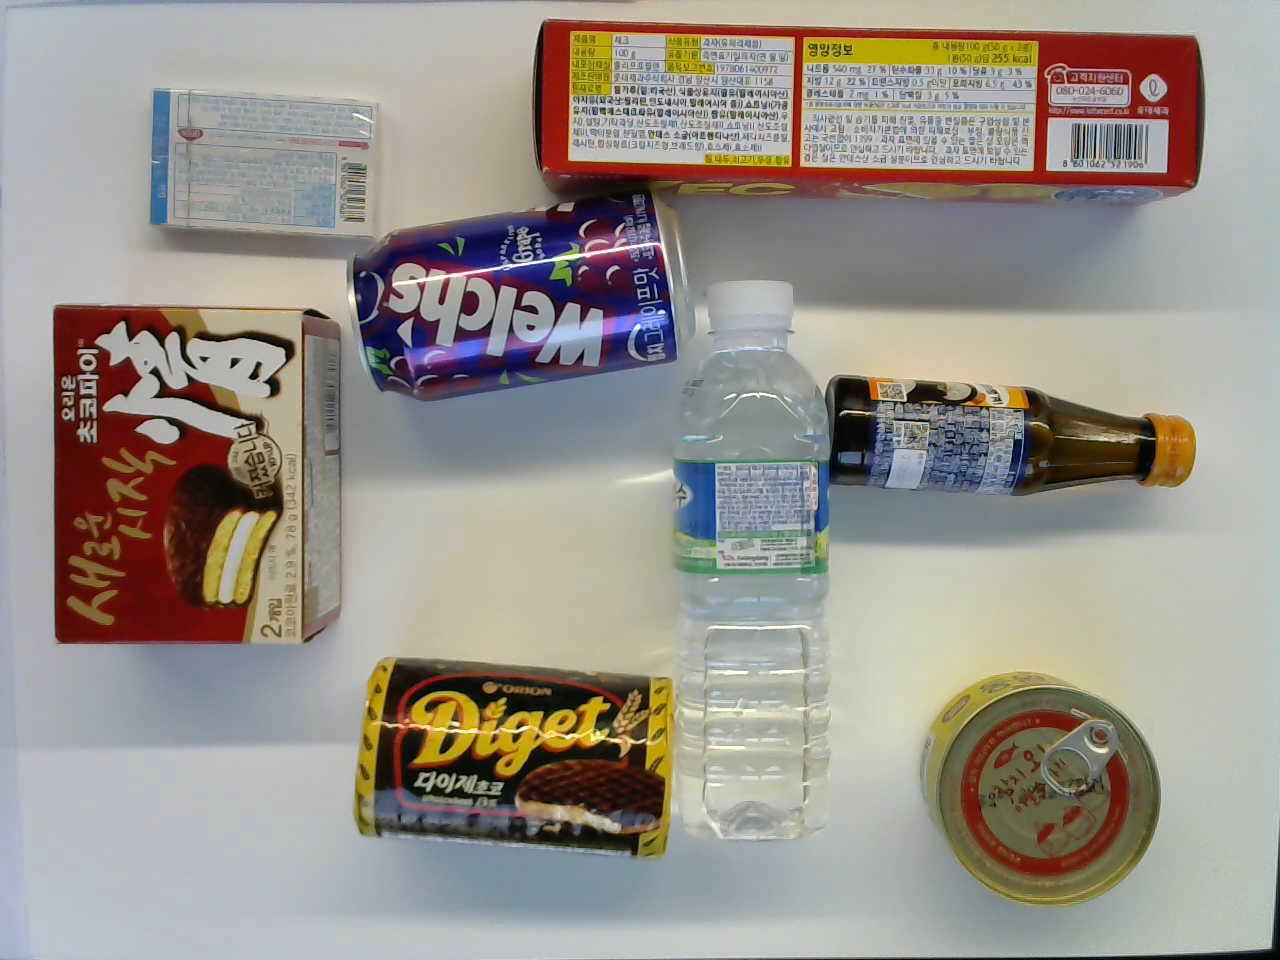ID_gum: (144, 82, 385, 247)
chocopie: (46, 299, 347, 647)
diget_choco: (351, 656, 679, 863)
samdasu: (670, 276, 842, 838)
tuna: (916, 670, 1162, 905)
vita500: (822, 371, 1197, 499)
welchs: (343, 190, 699, 402)
zec: (525, 15, 1203, 207)
